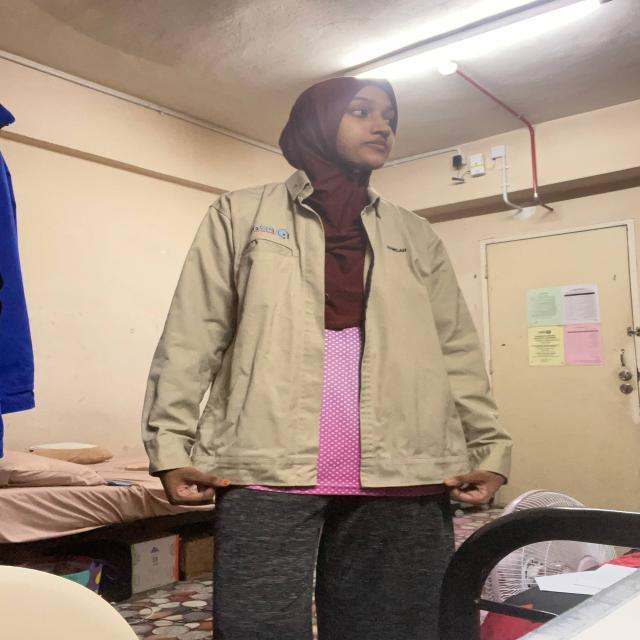person_with_labcoat: (142, 77, 512, 640)
